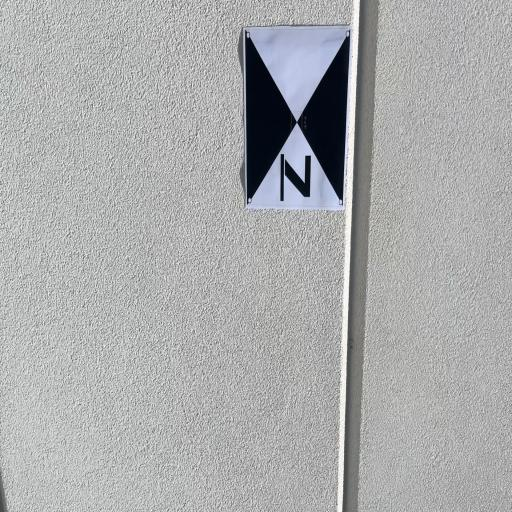target7: (244, 24, 343, 207)
